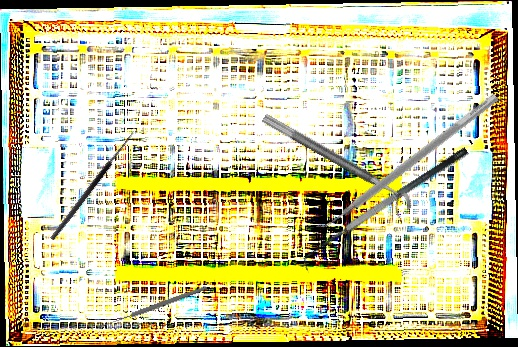Fixation Ring: (254, 112, 416, 221)
Hook Surgical: (44, 125, 137, 242)
Spatula Surgical: (312, 85, 500, 238), (295, 146, 478, 274)
Surgical Spoon: (98, 284, 208, 330)
